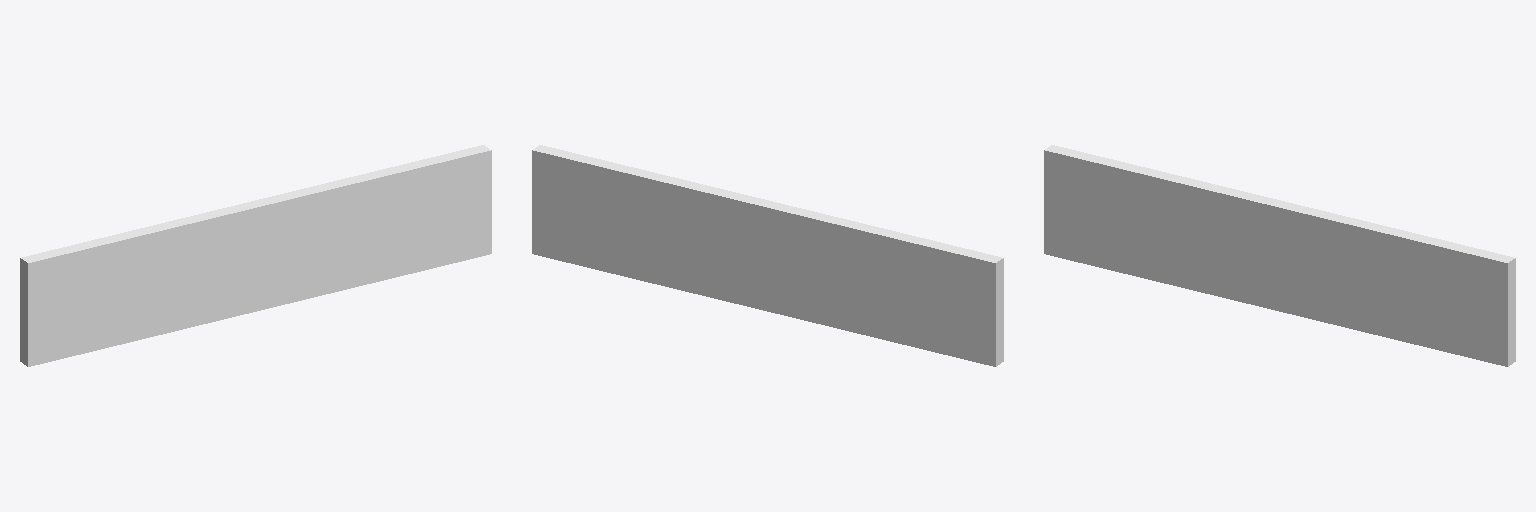
URDF robot description (drawer_compartment_backwall):
<?xml version="1.0" ?>
<robot name="drawer_compartment_backwall">
 <link name="baseLink">
   <contact>
     <lateral_friction value="0.5"/>
   </contact>
   <inertial>
     <origin rpy="0 0 0" xyz="0.7 0.01 0.625"/>
      <mass value="1.0"/>
      <inertia ixx="0.000004" ixy="0.000000" ixz="0.000000" iyy="0.000090" iyz="0.000000" izz="0.000086"/>
   </inertial>
   <visual>
     <origin rpy="0 0 0" xyz="0 0 0"/>
     <geometry>
       <mesh filename="drawer_compartment_backwall.obj" scale="1.0 1.0 1.0"/>
     </geometry>
      <material name="white">
       <color rgba="1 1 1 1"/>
     </material>
   </visual>
   <collision>
     <origin rpy="0 0 0" xyz="0 0 0"/>
     <geometry>
       <mesh filename="drawer_compartment_backwall.obj" scale="1.0 1.0 1.0"/>
     </geometry>
   </collision>
 </link>
</robot>

--- What the picture shows (computed from the rendered views, not written in the file) ---
3 views of the same robot in one strip: view 1: azimuth 30°, elevation 25°; view 2: azimuth 150°, elevation 25°; view 3: azimuth 330°, elevation 25° (orthographic).
Model drawer_compartment_backwall with 1 links and 0 joints (none), rooted at baseLink, posed every joint at zero.
Visible links, largest first — view 1: baseLink; view 2: baseLink; view 3: baseLink.
Boxes of the visible links, x1,y1,x2,y2 form: baseLink: (20,145,491,366); baseLink: (532,145,1003,366); baseLink: (1044,145,1515,366).
Bounding box of the posed robot: 0.7 × 0.02 × 0.15 m (x, y, z).
Meshes: 1 distinct files referenced, 1 mesh visuals loaded (1 OBJ).